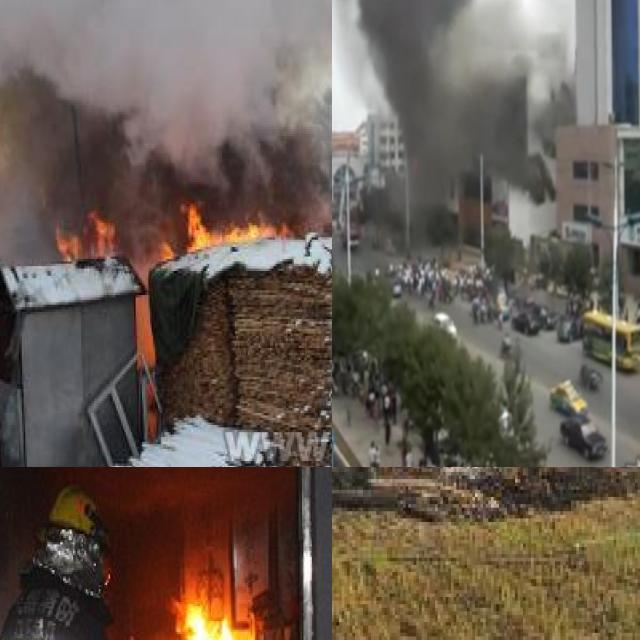fire: (175, 201, 298, 247), (156, 597, 249, 640), (54, 208, 116, 259)
smoke: (0, 0, 332, 261), (332, 0, 576, 198)
